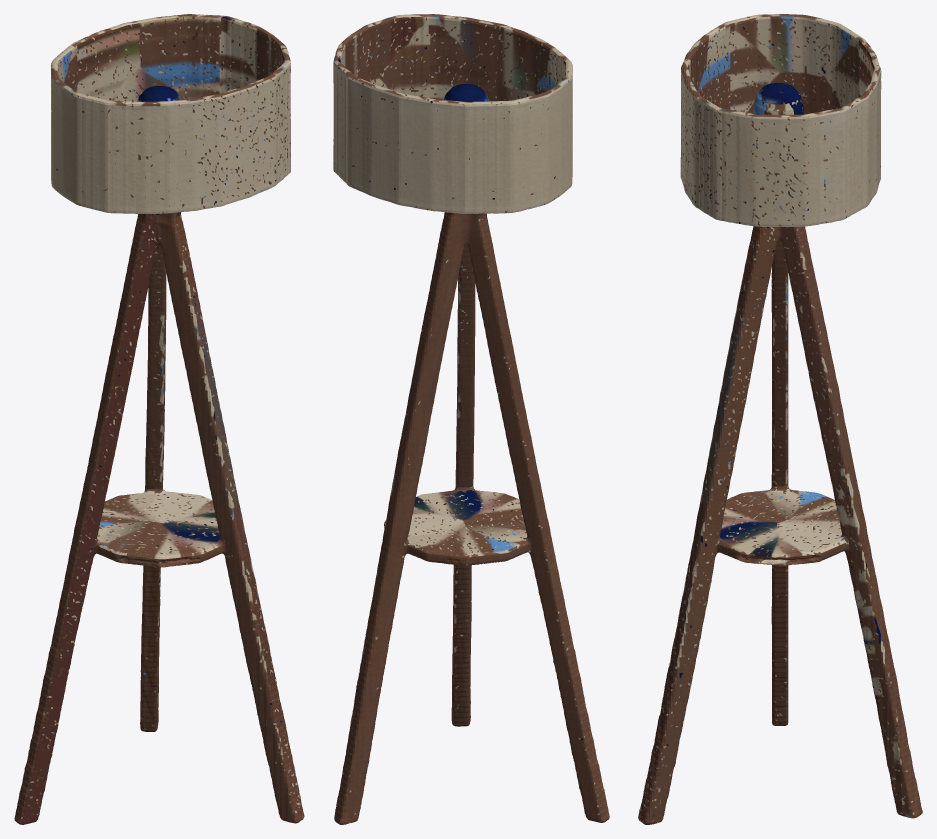
The model's file is lepower-century-standing-studying-bedroom.glb.
3 renders of one model, left to right at view 1: azimuth 30°, elevation 25°; view 2: azimuth 150°, elevation 25°; view 3: azimuth 270°, elevation 25°, orthographic.
Visible parts, largest first — view 1: world; view 2: world; view 3: world.
Boxes of the visible parts, x1,y1,x2,y2 form: world: (14,14,304,824); world: (333,14,609,824); world: (638,14,922,824).
Size of the model in its own units: 0.7381 by 1.99 by 0.7051.
1 material, 1 textured.
